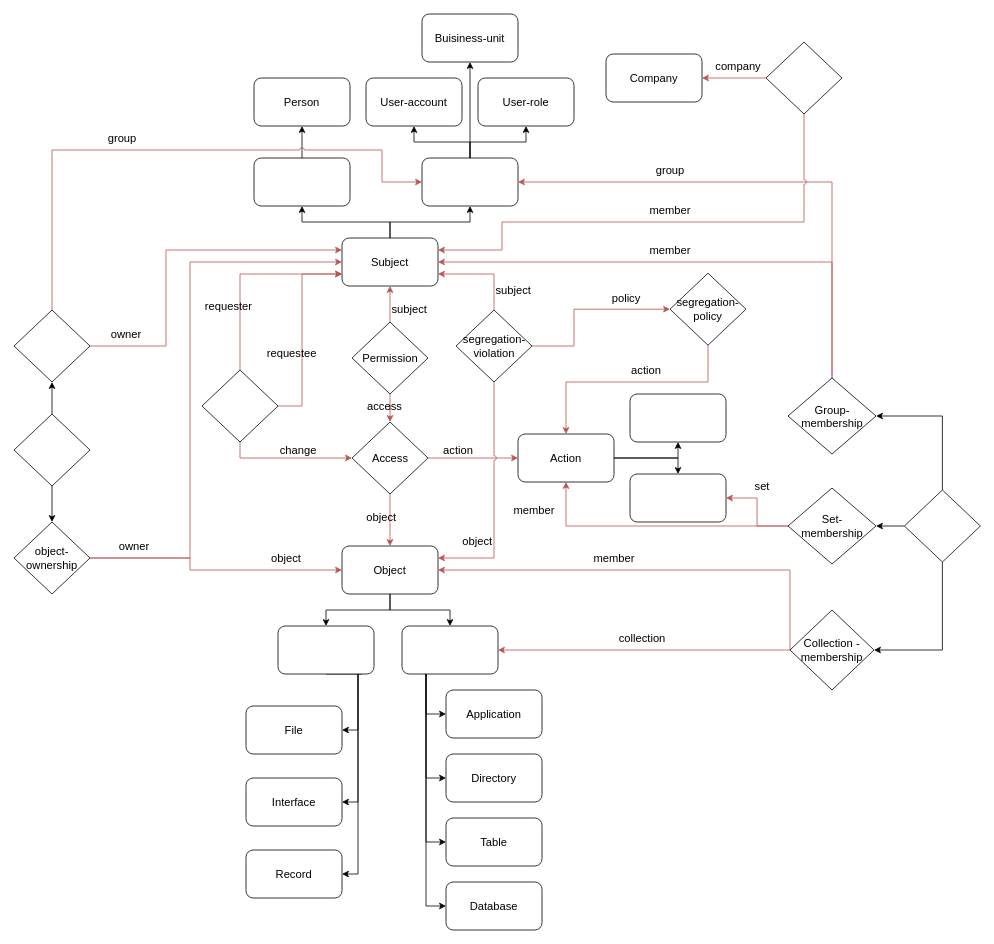
The diagram is 994 pixels wide and 944 high, and some of its shapes have lost their labels. The centre of each missing label's shape, as x and y in pixels:
"change-request" goes at point (239, 405).
"company-membership" goes at point (803, 77).
"group-ownership" goes at point (51, 345).
"Membership" goes at point (942, 525).
"Operation" goes at point (677, 417).
"Operation-set" goes at point (677, 497).
"Ownership" goes at point (51, 449).
"Resource" goes at point (325, 649).
"Resource- collection" goes at point (449, 649).
"User" goes at point (301, 181).
"User-group" goes at point (469, 181).
